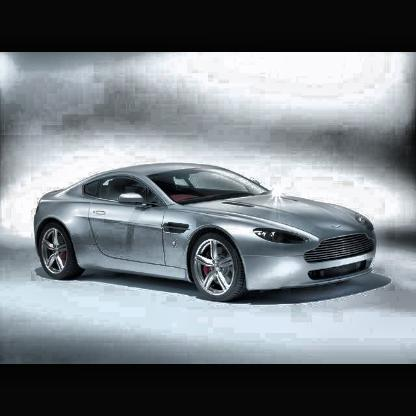Aston Martin V8 Vantage Coupe 2012: (36, 163, 379, 306)
